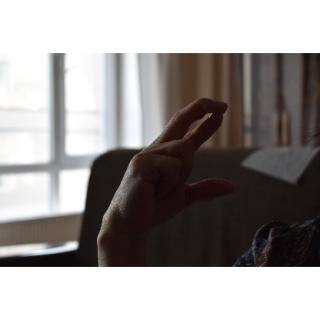DHELL: (94, 90, 240, 246)
